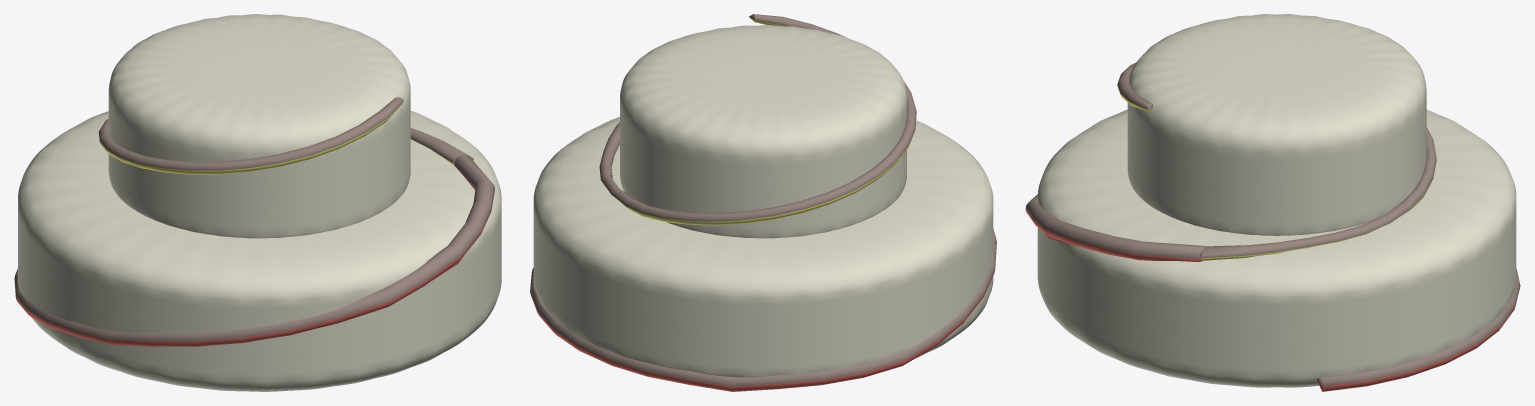
Rendered from cake0005.glb.
3 renders of one model, left to right at view 1: azimuth 30°, elevation 25°; view 2: azimuth 150°, elevation 25°; view 3: azimuth 270°, elevation 25°, orthographic. The views are drawn at different scales.
Parts seen in each view (by area): view 1: Cylinder (×2), Torus.1-Mat.1, Torus-Mat.1, Torus.1-Mat.3, Torus-Mat.2; view 2: Cylinder (×2), Torus-Mat.1, Torus.1-Mat.1, Torus.1-Mat.3, Torus-Mat.2; view 3: Cylinder (×2), Torus.1-Mat.1, Torus-Mat.1, Torus.1-Mat.3, Torus-Mat.2.
Boxes of the visible parts, bbox=[...] form: Cylinder (×2): bbox=[18, 14, 501, 391]; Torus.1-Mat.1: bbox=[14, 154, 494, 341]; Torus-Mat.1: bbox=[98, 97, 473, 170]; Torus.1-Mat.3: bbox=[16, 165, 491, 346]; Torus-Mat.2: bbox=[100, 102, 473, 174]; Cylinder (×2): bbox=[533, 25, 993, 377]; Torus-Mat.1: bbox=[599, 14, 916, 221]; Torus.1-Mat.1: bbox=[530, 229, 996, 386]; Torus.1-Mat.3: bbox=[530, 271, 994, 391]; Torus-Mat.2: bbox=[601, 17, 915, 225]; Cylinder (×2): bbox=[1037, 14, 1516, 387]; Torus.1-Mat.1: bbox=[1025, 194, 1520, 386]; Torus-Mat.1: bbox=[1117, 62, 1436, 258]; Torus.1-Mat.3: bbox=[1025, 209, 1515, 391]; Torus-Mat.2: bbox=[1118, 88, 1433, 260].
Bounding box in the file's own units: 3967 × 2144 × 4067.
